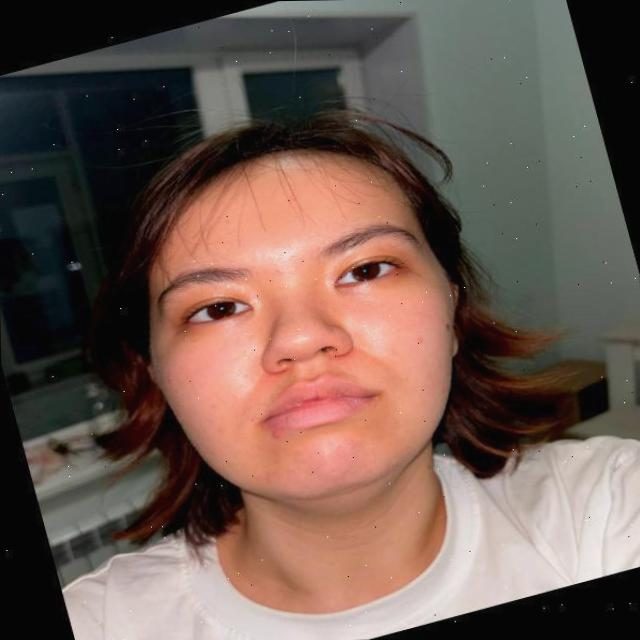blackhead: (269, 250, 306, 277), (287, 322, 312, 346), (356, 319, 384, 335), (238, 353, 260, 368), (314, 330, 336, 344), (274, 341, 290, 354)
nodules: (267, 426, 284, 440), (163, 372, 176, 382)
